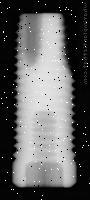Neoss: (12, 12, 77, 188)
